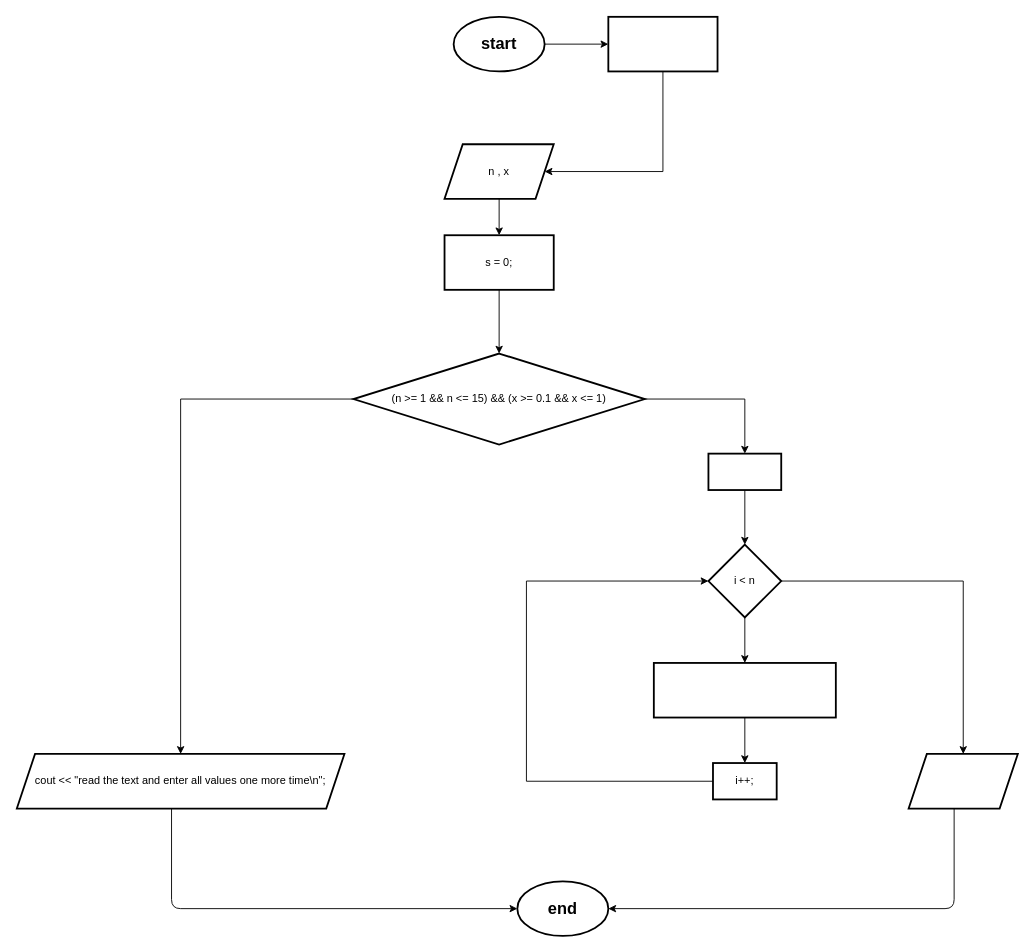
Image size: 1034x952. Some labels were removed from this diagram. Here are the shapes that lost their labels. From the top down, the centre of each, then its label:
At point 662,43: "int fact(int a){...};".
At point 744,471: "i = 0".
At point 744,690: "s += pow((2 * x), i) / fact(i);".
At point 962,781: "cout << s;".
